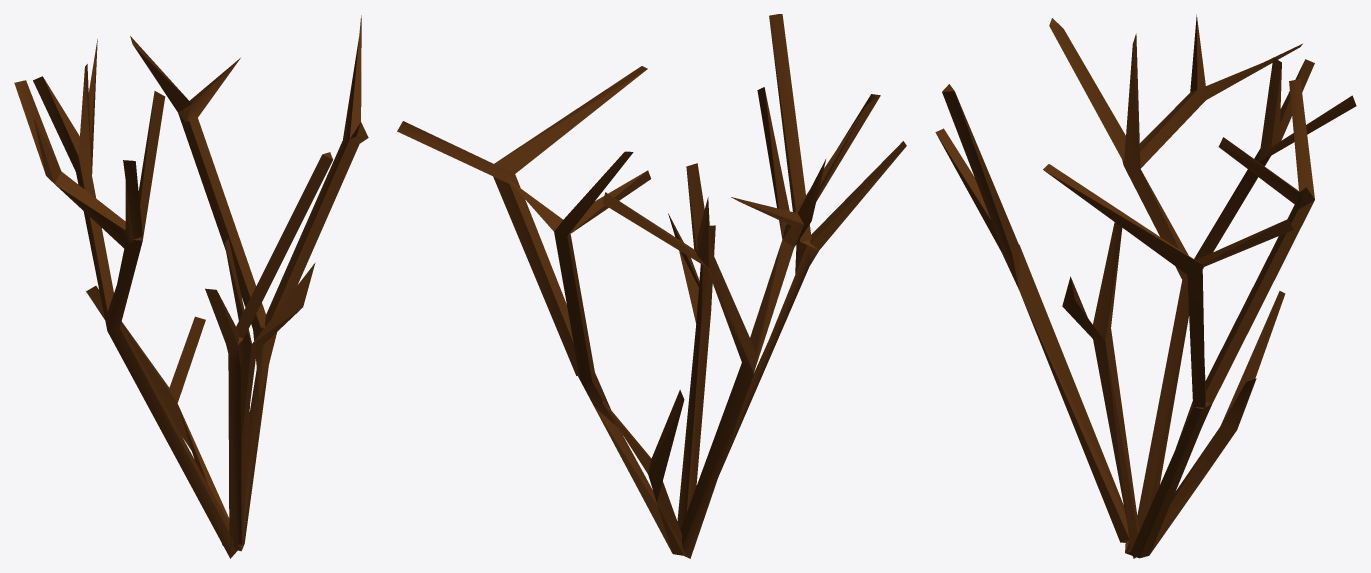
The model's file is lowpoly_shrub.glb.
The picture shows the model from 3 angles, left to right: view 1: azimuth 30°, elevation 25°; view 2: azimuth 150°, elevation 25°; view 3: azimuth 270°, elevation 25°; orthographic projection.
Parts seen in each view (by area): view 1: Cube; view 2: Cube; view 3: Cube.
Boxes of the visible parts, bbox=[...] form: Cube: bbox=[14, 15, 368, 558]; Cube: bbox=[397, 14, 906, 558]; Cube: bbox=[935, 14, 1356, 558].
Size of the model in its own units: 0.5418 by 0.6684 by 0.5211.
